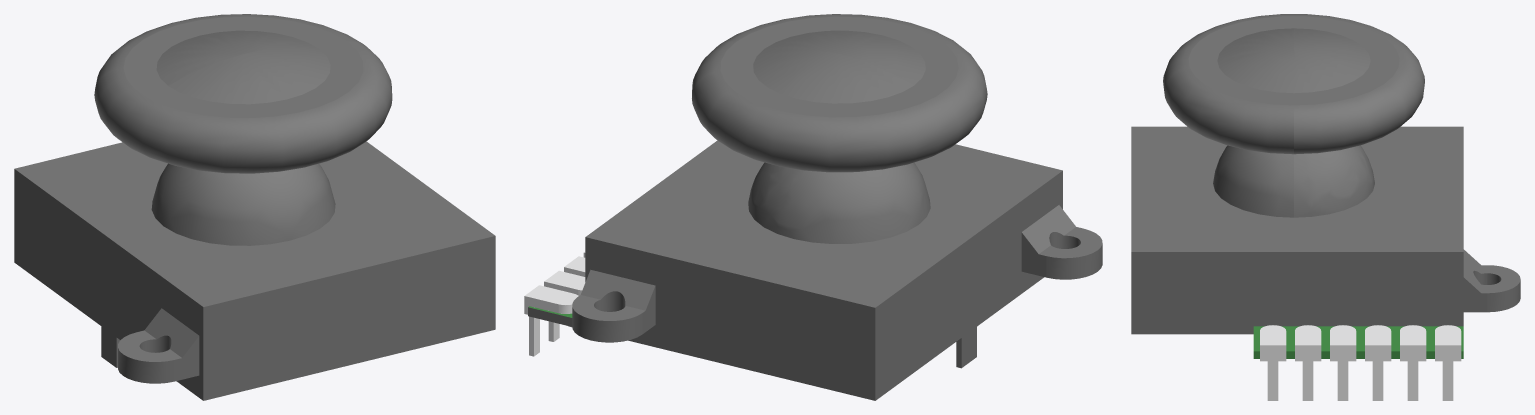
The model's file is ada-5628.glb.
3 views of the same model, side by side, from view 1: azimuth 30°, elevation 25°; view 2: azimuth 150°, elevation 25°; view 3: azimuth 270°, elevation 25° (orthographic). The views are drawn at different scales.
Visible parts, largest first — view 1: 0.16666666666666666_0.16666666666666666_0.16666666666666666_; view 2: 0.16666666666666666_0.16666666666666666_0.16666666666666666_, 0.9166666666666666_0.9166666666666666_0.9166666666666666_0.8; view 3: 0.16666666666666666_0.16666666666666666_0.16666666666666666_, 0.9166666666666666_0.9166666666666666_0.9166666666666666_0.8, 0.08333333333333333_0.3333333333333333_0.08333333333333333_0.
Boxes of the visible parts, x1,y1,x2,y2 form: 0.16666666666666666_0.16666666666666666_0.16666666666666666_: (14, 14, 495, 400); 0.16666666666666666_0.16666666666666666_0.16666666666666666_: (528, 14, 1102, 400); 0.9166666666666666_0.9166666666666666_0.9166666666666666_0.8: (524, 252, 585, 356); 0.16666666666666666_0.16666666666666666_0.16666666666666666_: (1131, 14, 1520, 334); 0.9166666666666666_0.9166666666666666_0.9166666666666666_0.8: (1260, 325, 1461, 400); 0.08333333333333333_0.3333333333333333_0.08333333333333333_0: (1253, 326, 1463, 358).
Size of the model in its own units: 2.4 by 1.62 by 2.23.
